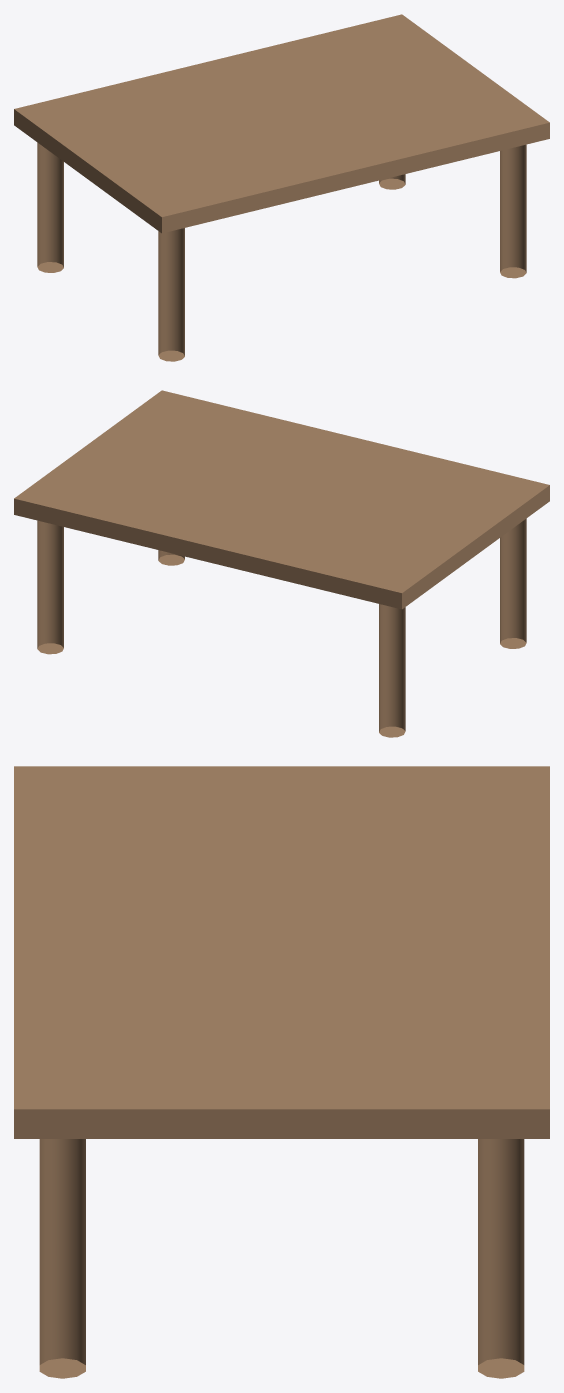
The model's file is coffee_table_03.glb.
3 views of the same model, one above another, from view 1: azimuth 30°, elevation 25°; view 2: azimuth 150°, elevation 25°; view 3: azimuth 270°, elevation 25° (orthographic). The views are drawn at different scales.
Size of the model in its own units: 1 by 0.38 by 0.66.
